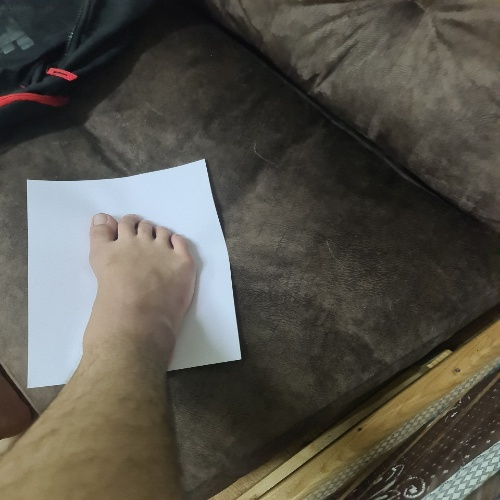Top_Foot: (8, 150, 260, 406)
